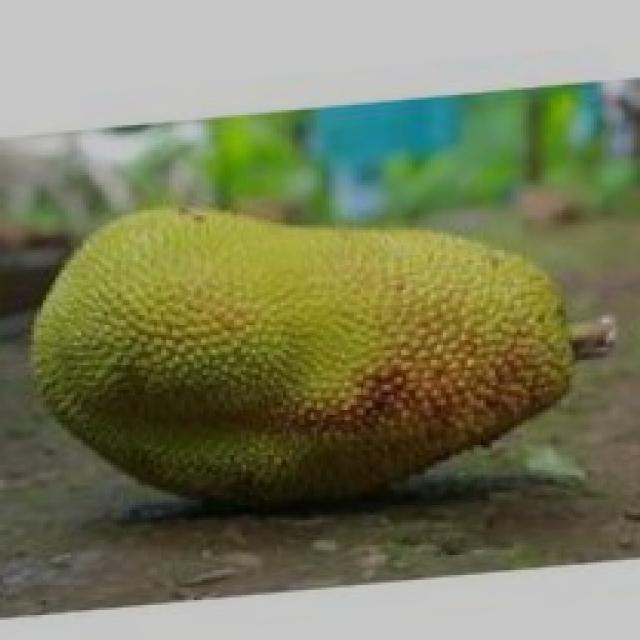Fruit: (197, 198, 600, 520), (9, 187, 369, 525)
